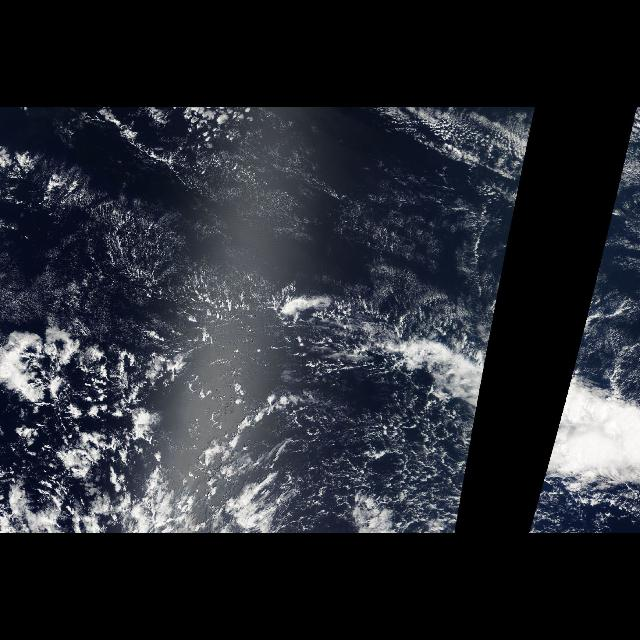Gravel: (189, 358, 486, 534), (528, 392, 568, 530)
Sugar: (1, 110, 536, 346), (580, 110, 640, 344)
